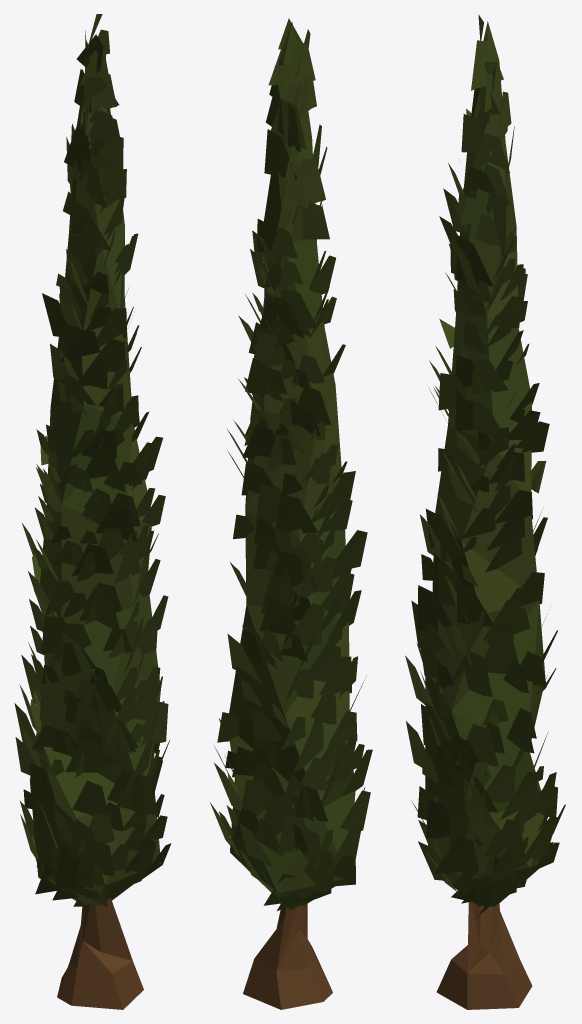
The model's file is tree-cypress-mature-a.gltf.
The picture shows the model from 3 angles, left to right: view 1: azimuth 30°, elevation 25°; view 2: azimuth 150°, elevation 25°; view 3: azimuth 270°, elevation 25°; orthographic projection.
Parts seen in each view (by area): view 1: tree-cypress-mature-a; view 2: tree-cypress-mature-a; view 3: tree-cypress-mature-a.
Boxes of the visible parts, left/top/right/bottom form: tree-cypress-mature-a: left=14, top=14, right=171, bottom=1009; tree-cypress-mature-a: left=210, top=18, right=372, bottom=1009; tree-cypress-mature-a: left=405, top=14, right=565, bottom=1009.
Bounding box in the file's own units: 0.0116 × 0.078 × 0.0118.
